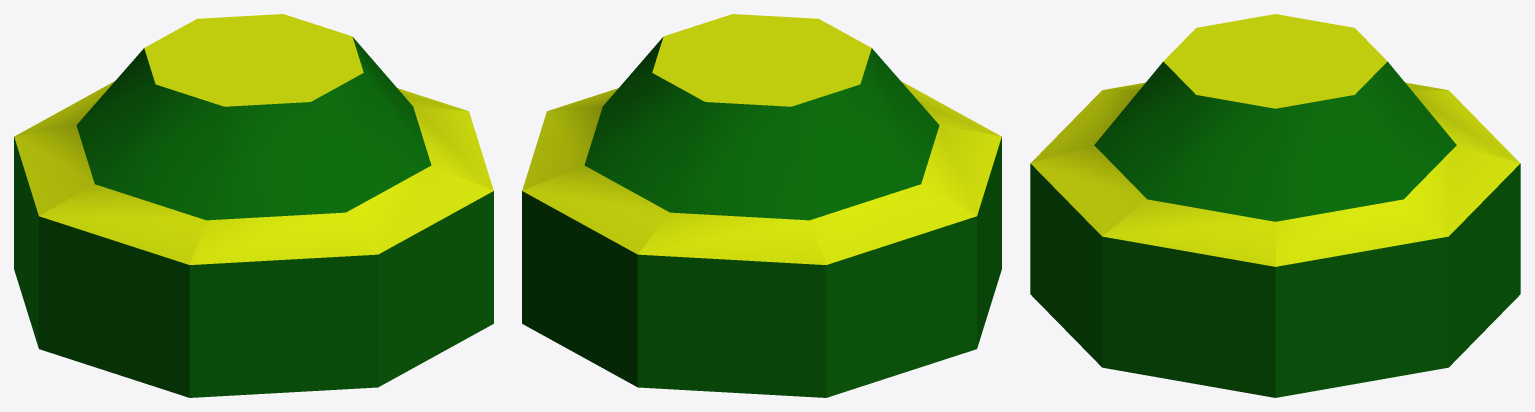
File: Landmine.fbx
The picture shows the model from 3 angles, left to right: view 1: azimuth 30°, elevation 25°; view 2: azimuth 150°, elevation 25°; view 3: azimuth 270°, elevation 25°; orthographic projection.
Visible parts, largest first — view 1: Landmine1; view 2: Landmine1; view 3: Landmine1.
Part boxes in pixels (x1,y1,x2,y2): Landmine1: (14, 14, 493, 397); Landmine1: (522, 14, 1001, 397); Landmine1: (1030, 14, 1520, 397).
Size of the model in its own units: 3.47 by 1.82 by 3.47.
